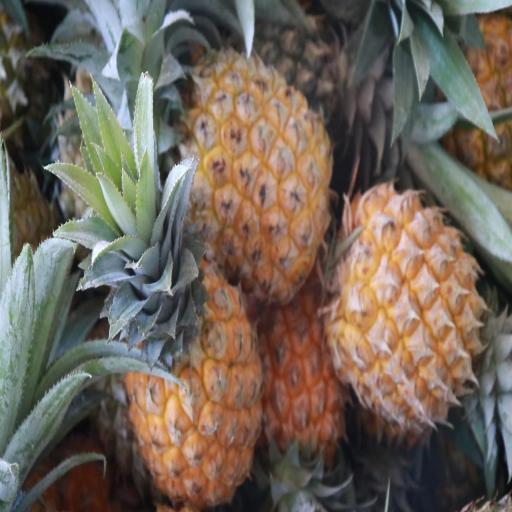Pineapple - v8 v1: (127, 190, 262, 512), (186, 52, 333, 306), (332, 188, 481, 433), (259, 312, 346, 512)
